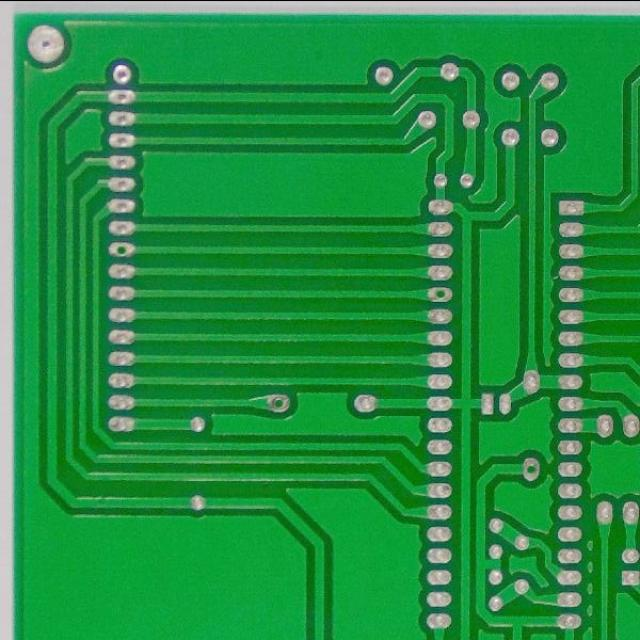missing_hole: (265, 389, 291, 414), (427, 282, 453, 305), (519, 456, 542, 481), (108, 238, 133, 260)
